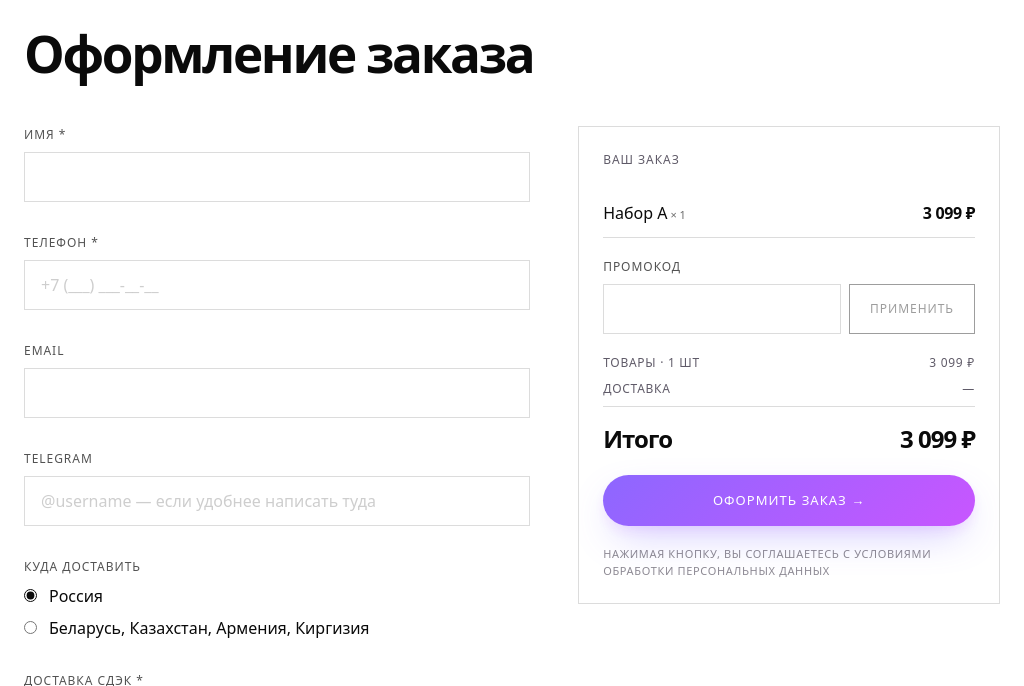
Test: /checkout page › промокод › доставка остаётся бесплатной, хотя сумма после скидки ниже порога
Type "RENATA2026" into the field labelled "Промокод". click: (722, 309)
box: [603,284,841,334]
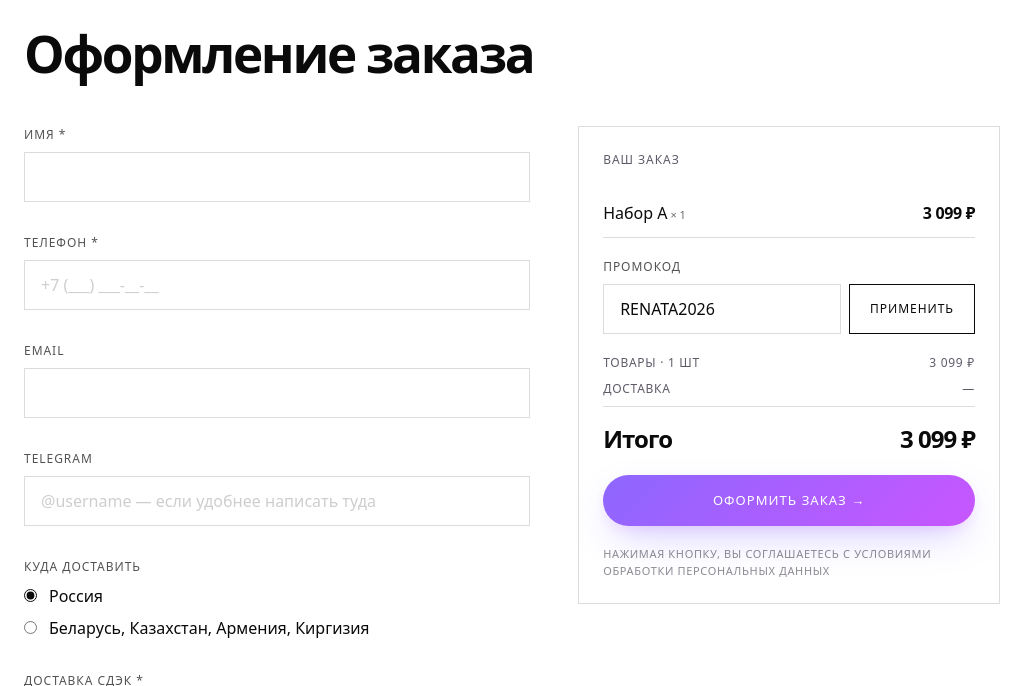
Click the button "Применить". click: click(912, 309)
box: [849,284,975,334]
(page scrolled)
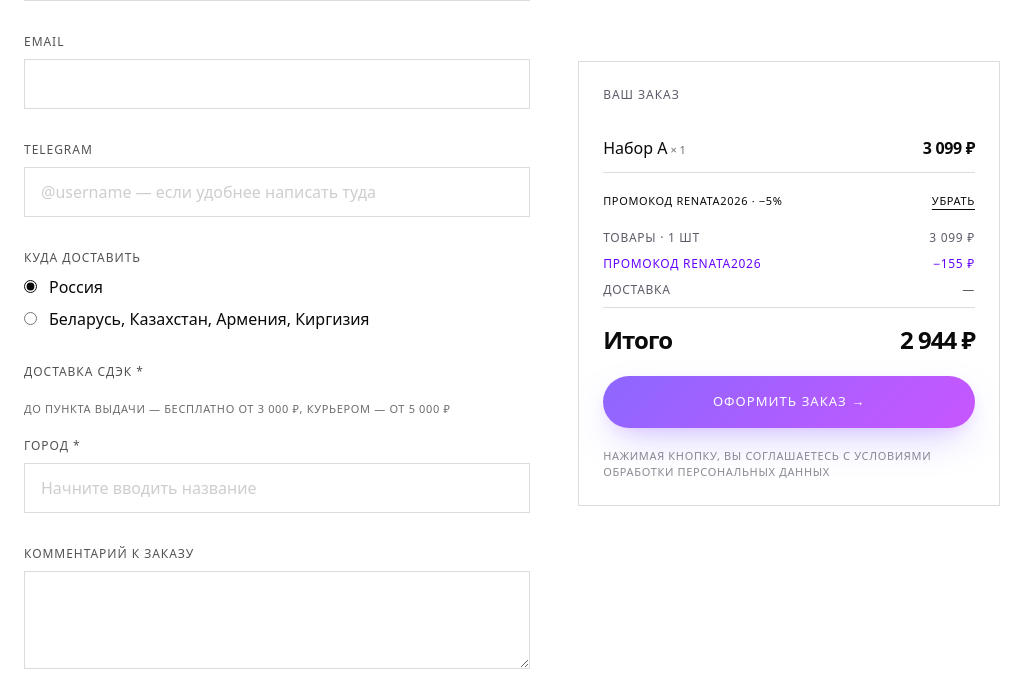
Type "Моск" into the dropdown labelled "Город *". click: (277, 488)
box: [24,463,530,513]
(page scrolled)
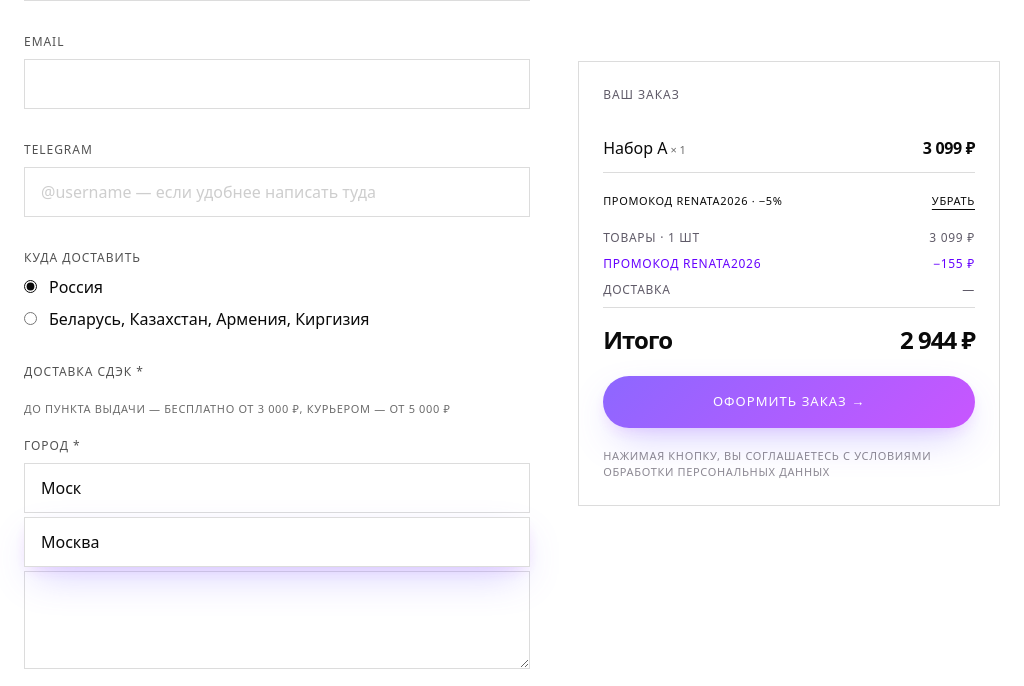
Click the option "Москва". click: click(70, 542)
box: [41,531,100,553]
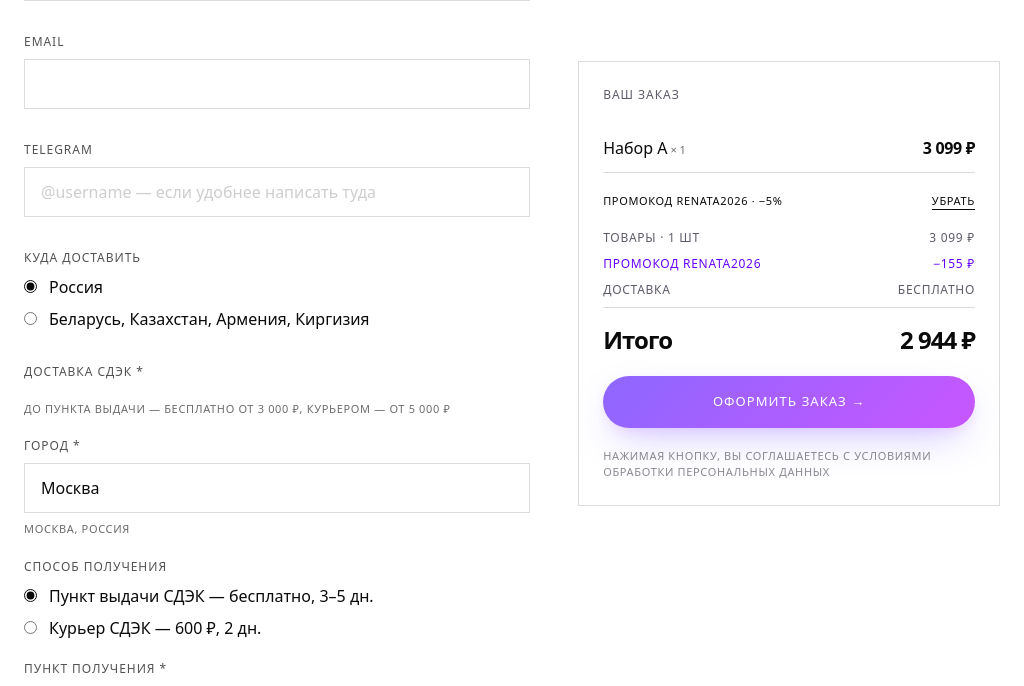
Result: the text with test id "summary-total" shows "2 944" at [900,324,975,356]
Result: the radio button labelled "Пункт выдачи СДЭК — бесплатно, 3–5 дн." is shown at [24,589,37,602]
Result: the text with test id "summary-shipping" reads "Бесплатно" at [898,282,975,298]
